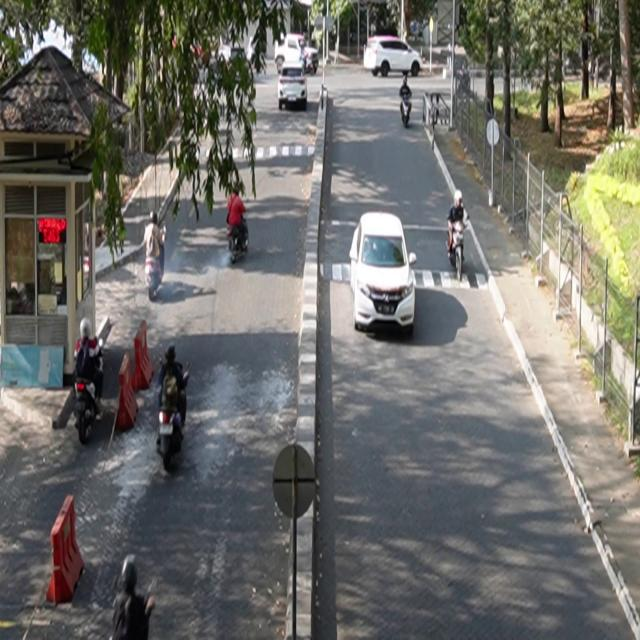car: (350, 212, 418, 335), (279, 62, 308, 112)
